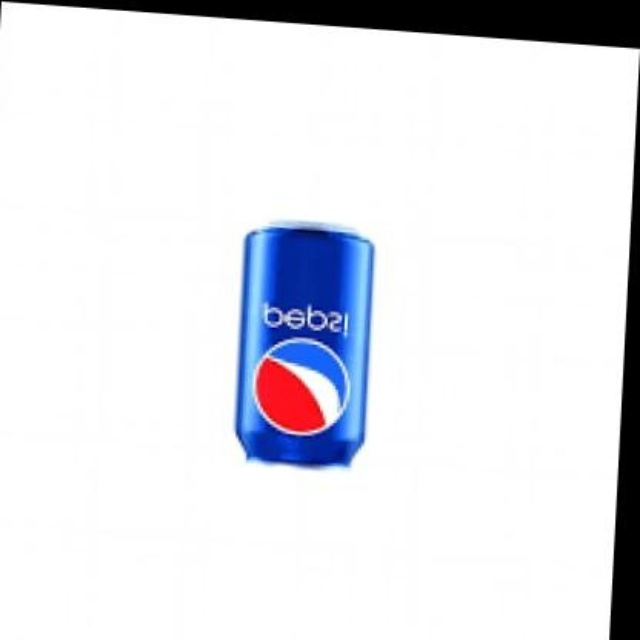trash: (237, 223, 372, 463)
